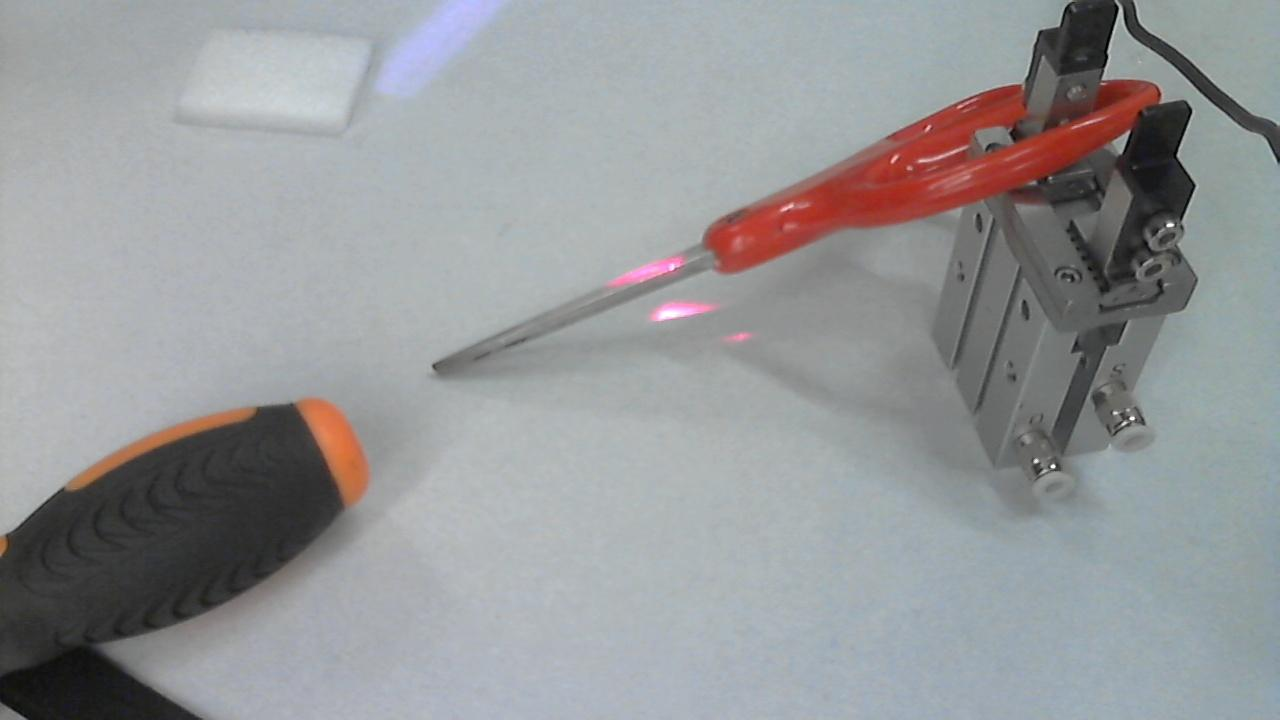Object tabletop - Material composite plastic - Pdfname jhjasdfwat: (560, 260, 720, 307)
